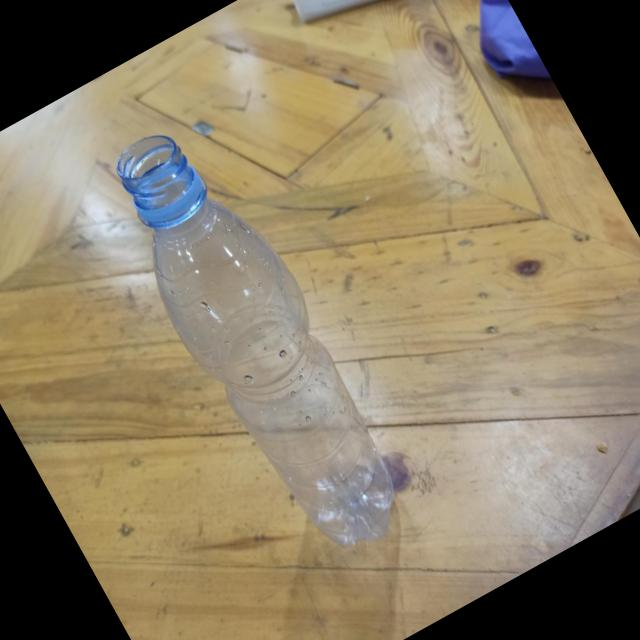BotolPlastik: (84, 104, 427, 576)
